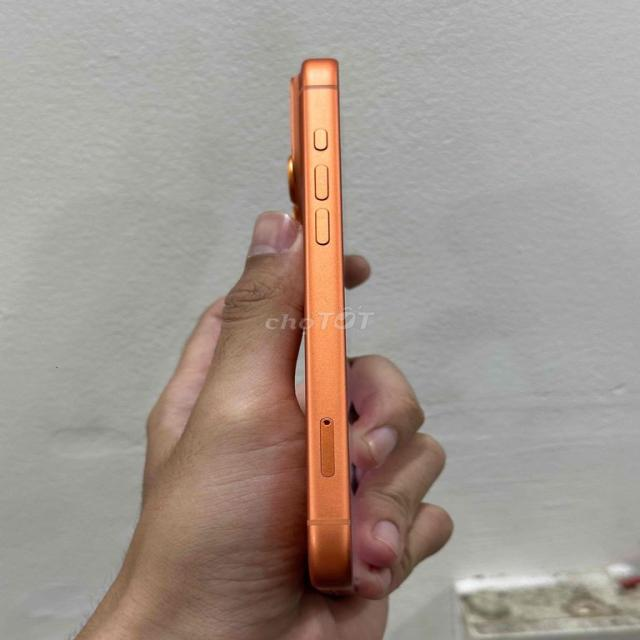gen_17: (267, 40, 407, 602)
